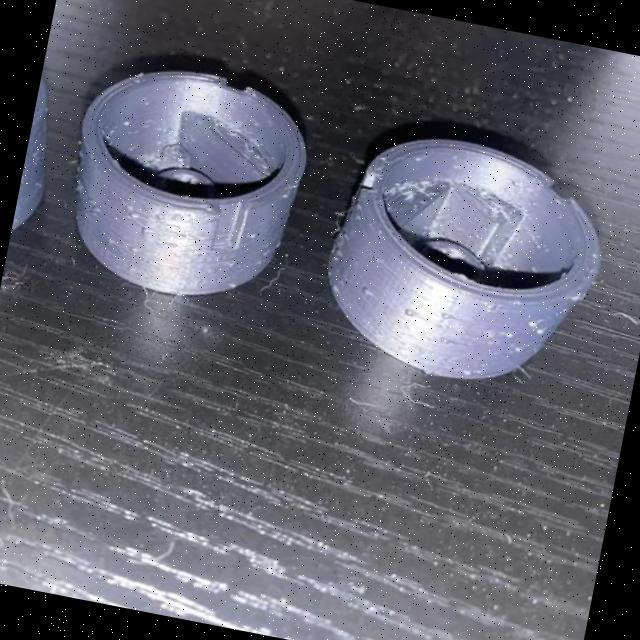blobs: (400, 304, 420, 322), (357, 280, 375, 300), (100, 234, 119, 248), (524, 317, 540, 330), (531, 326, 548, 338), (369, 254, 382, 268), (436, 334, 449, 348), (128, 210, 142, 223), (438, 308, 452, 320), (138, 225, 150, 238), (88, 203, 100, 216), (128, 243, 140, 256)
